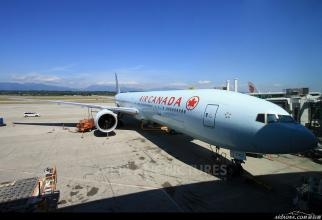airplane: (40, 70, 316, 169)
